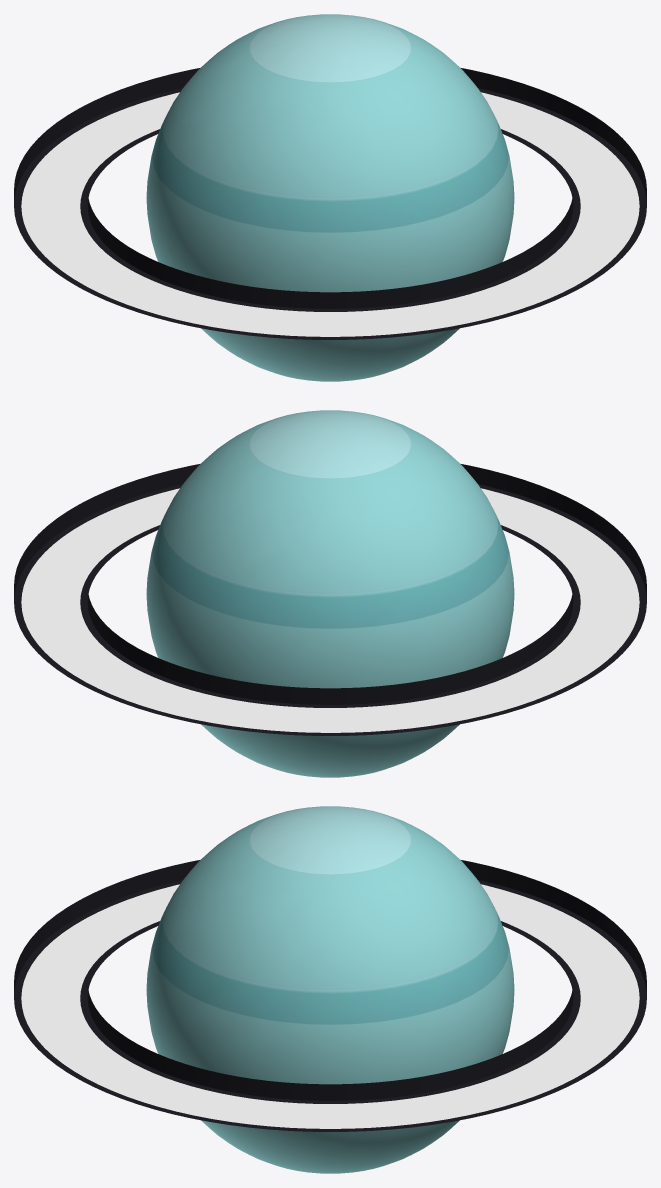
File: ball_uranus.glb
3 renders of one model, top to bottom at view 1: azimuth 30°, elevation 25°; view 2: azimuth 150°, elevation 25°; view 3: azimuth 270°, elevation 25°, orthographic.
Visible parts, largest first — view 1: ball_uranus, ring; view 2: ball_uranus, ring; view 3: ball_uranus, ring.
Part boxes in pixels (bbox=[...]): ball_uranus: bbox=[146, 14, 514, 381]; ring: bbox=[14, 68, 646, 339]; ball_uranus: bbox=[146, 410, 514, 777]; ring: bbox=[14, 464, 646, 735]; ball_uranus: bbox=[146, 806, 514, 1173]; ring: bbox=[14, 860, 646, 1131].
Bounding box in the file's own units: 1.72 × 1 × 1.72.
Materials: 2 (1 with a texture image).
